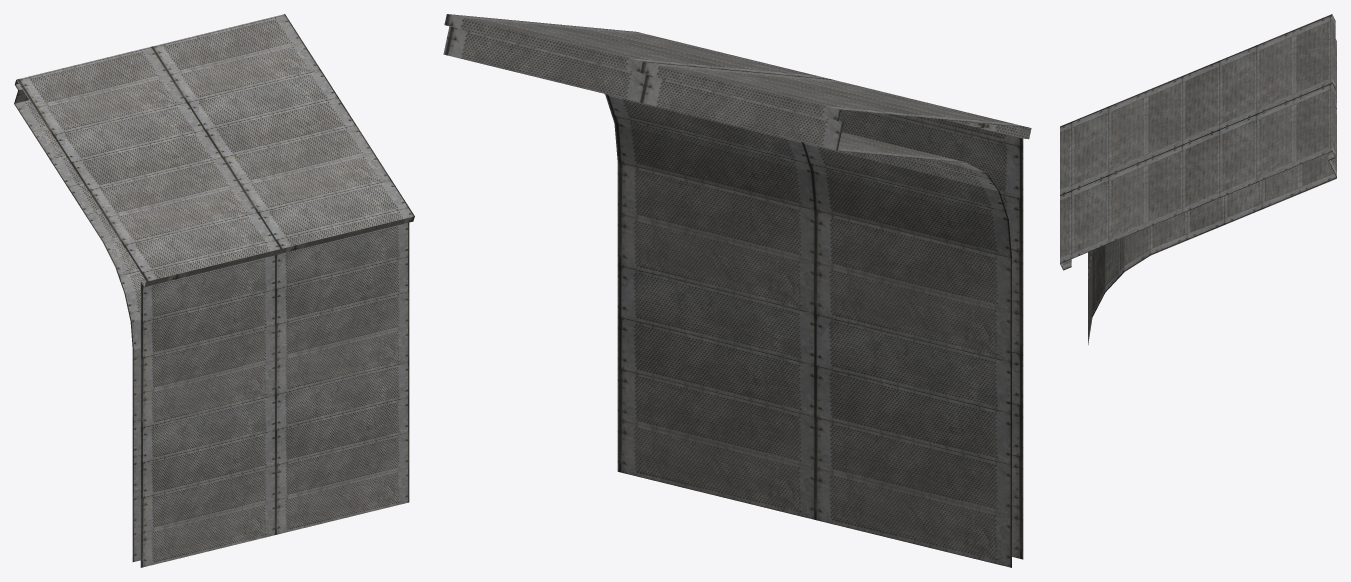
File: Preset_WallHwyC.fbx
3 views of the same model, side by side, from view 1: azimuth 30°, elevation 25°; view 2: azimuth 150°, elevation 25°; view 3: azimuth 270°, elevation 25° (orthographic). The views are drawn at different scales.
Visible parts, largest first — view 1: BodyHD, BodyVD; view 2: BodyVD, BodyHD; view 3: BodyHD.
Part boxes in pixels (bbox=[...]): BodyHD: bbox=[14, 14, 414, 369]; BodyVD: bbox=[132, 304, 409, 567]; BodyVD: bbox=[617, 181, 1023, 567]; BodyHD: bbox=[443, 14, 1031, 277]; BodyHD: bbox=[1060, 14, 1336, 344].
Size of the model in its own units: 400 by 340 by 565.
Materials: 2 (2 with a texture image).
